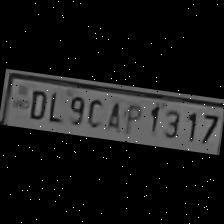1: (140, 102, 162, 138), (180, 108, 200, 142)
3: (159, 105, 183, 140)
7: (194, 110, 220, 147)
9: (64, 92, 86, 126)
A: (102, 97, 126, 133)
C: (82, 94, 106, 129)
D: (23, 86, 48, 122)
L: (44, 88, 66, 124)
P: (119, 99, 144, 136)
